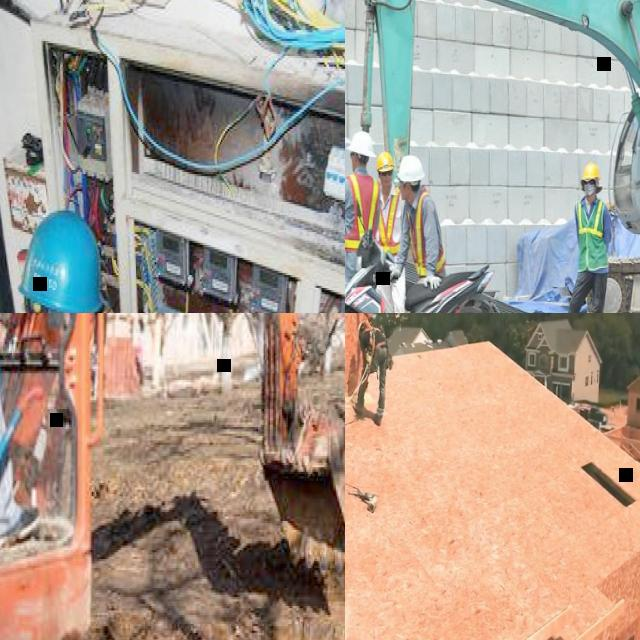Hardhat: (18, 210, 107, 313), (399, 154, 425, 180), (350, 130, 376, 156), (377, 151, 395, 173), (584, 162, 602, 180), (358, 322, 364, 340)
Mask: (584, 185, 597, 198)
NO-Mask: (401, 188, 413, 200), (383, 176, 394, 188), (350, 162, 358, 170)
NO-Safety Vest: (364, 328, 387, 352)
Person: (0, 313, 44, 550), (394, 155, 451, 313), (557, 160, 613, 313), (345, 128, 382, 313), (374, 149, 407, 313), (353, 322, 388, 426)
Safety Vest: (407, 186, 450, 278), (345, 172, 380, 250), (577, 200, 610, 268), (376, 182, 405, 255)
vehicle: (0, 313, 345, 640), (356, 0, 640, 313)
